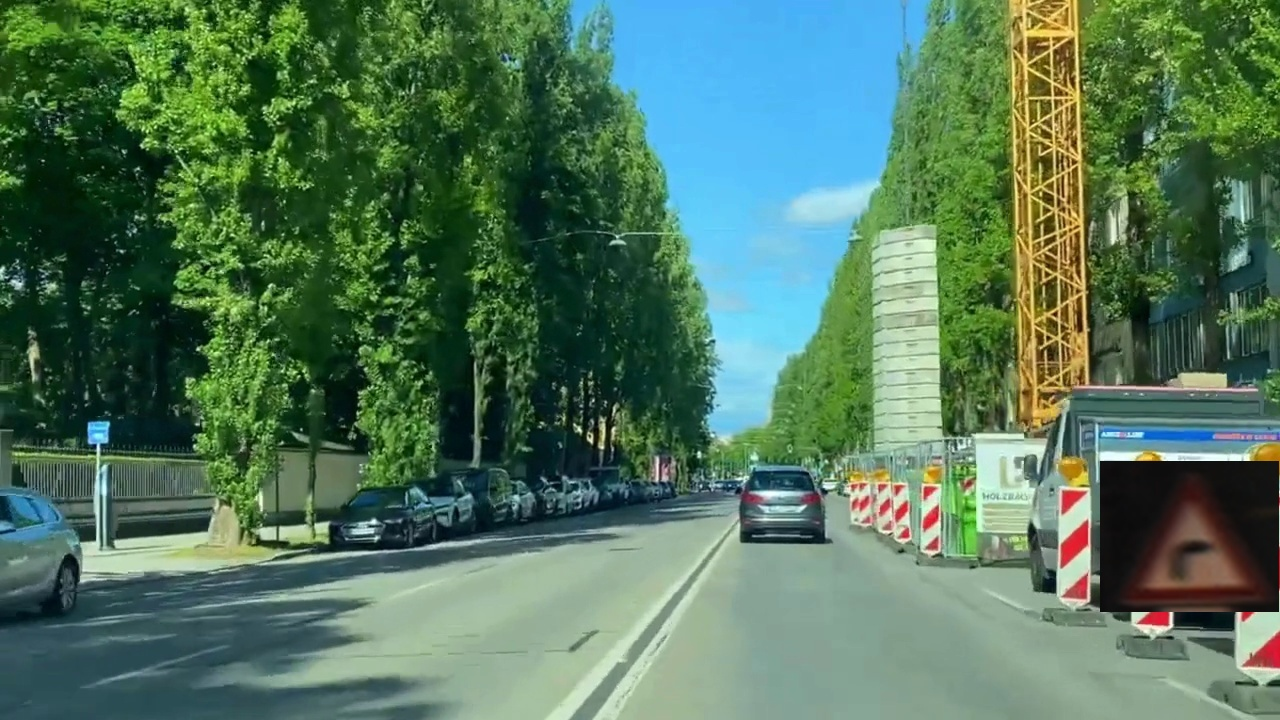Curve right: (1100, 461, 1279, 612)
